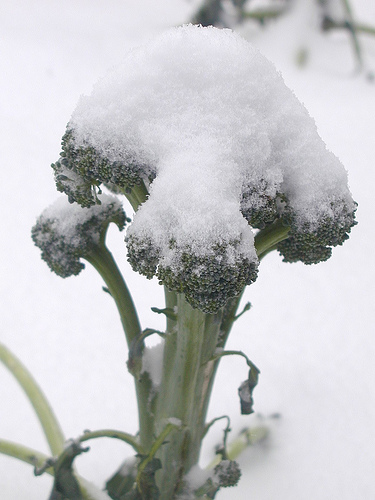broccoli: (28, 21, 361, 498)
